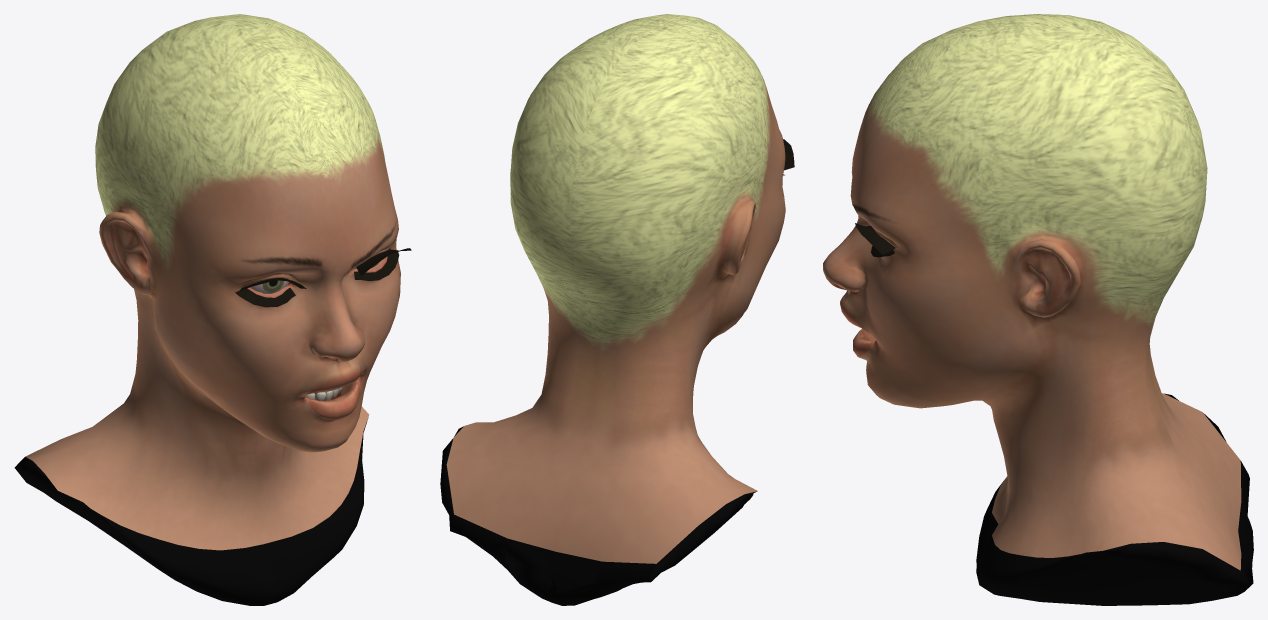
File: Head_rr.obj
3 views of the same model, side by side, from view 1: azimuth 30°, elevation 25°; view 2: azimuth 150°, elevation 25°; view 3: azimuth 270°, elevation 25° (orthographic). The views are drawn at different scales.
Parts seen in each view (by area): view 1: BodyParts; view 2: BodyParts; view 3: BodyParts.
Part boxes in pixels (x1,y1,x2,y2): BodyParts: (14,14,411,605); BodyParts: (440,14,794,605); BodyParts: (823,14,1253,605).
Size of the model in its own units: 21.19 by 35.94 by 24.45.
Materials: 2 (2 with a texture image).
